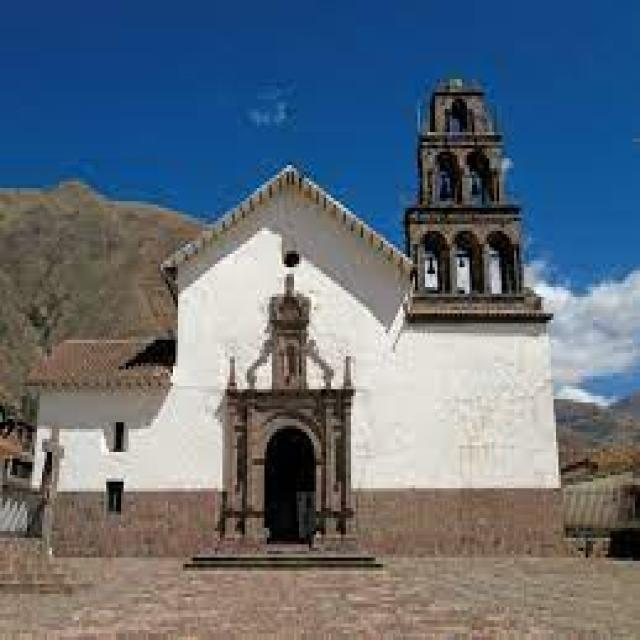6: (388, 36, 568, 551)
CAMPANARIO: (399, 59, 546, 317)
CUPULA: (0, 0, 615, 587)
SIMETRIA COLONIAL: (220, 383, 356, 558)
